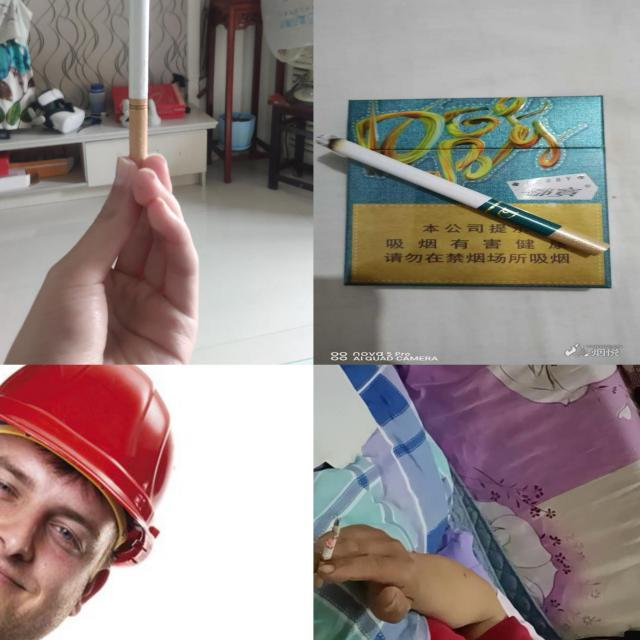smoke: (316, 133, 612, 257), (128, 0, 152, 163), (314, 518, 342, 589)
